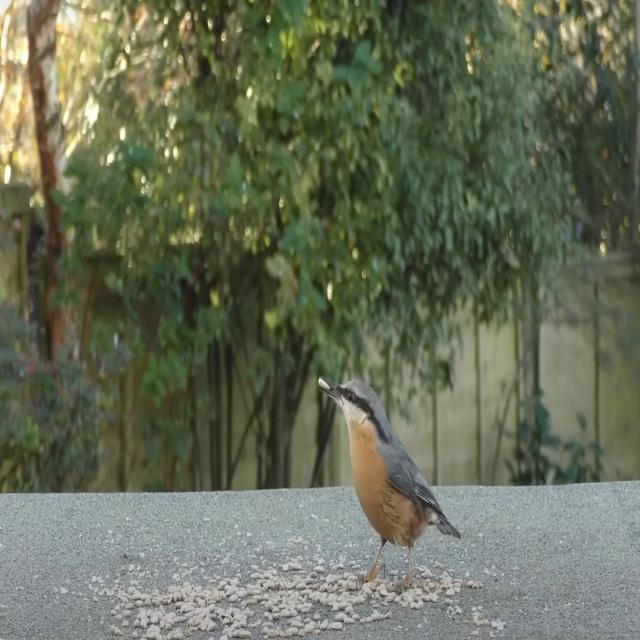beak: (317, 372, 345, 413)
bird: (318, 373, 464, 598)
